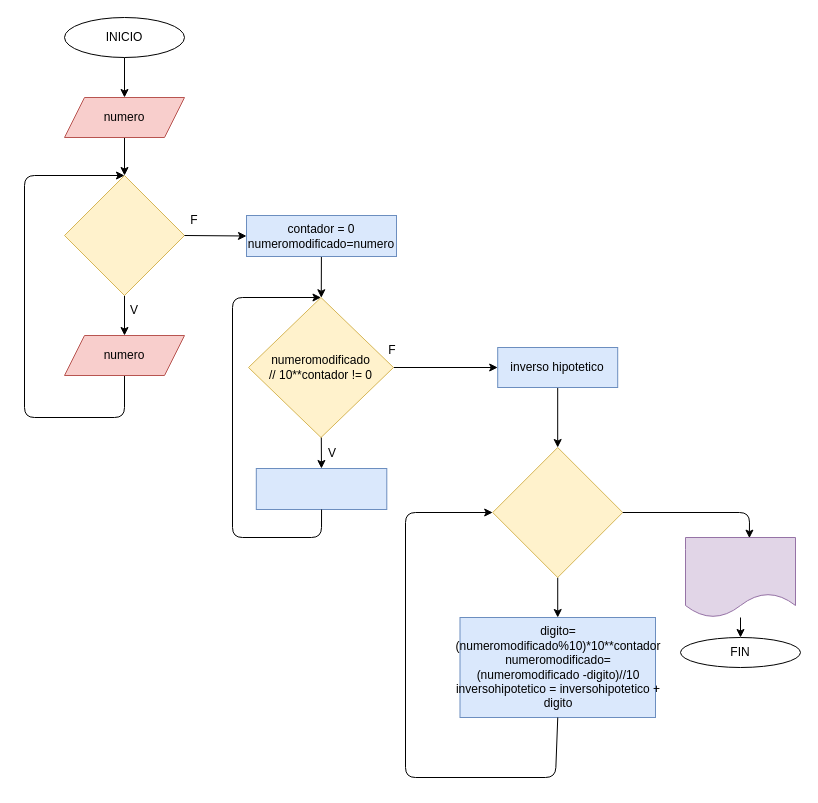
Some shapes in this 818 by 803 pixel diagram are drawn without their labels. The box of each missing label's shape, as (x1, y1, x2, y2) in pixels:
contador != 0: (492, 446, 623, 578)
contador = contador + 1: (255, 468, 387, 510)
numero < 1: (64, 174, 184, 296)
numero, inversohipotetico/10: (684, 536, 796, 618)
